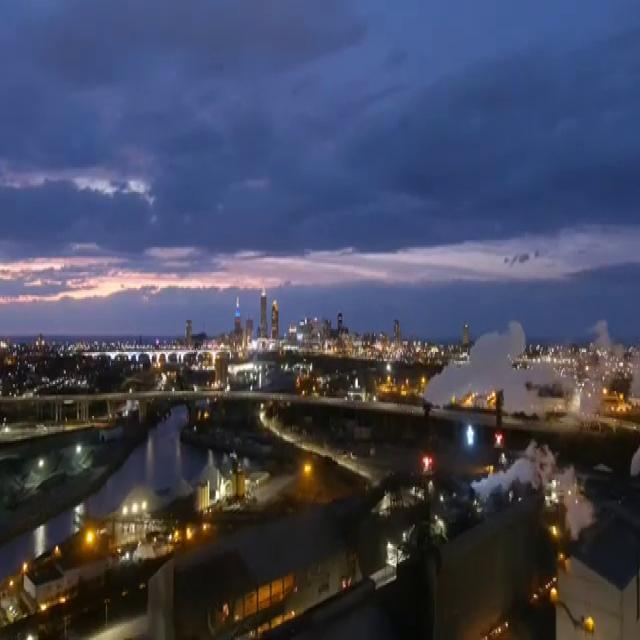smoke: (424, 324, 636, 409), (465, 446, 549, 524)
